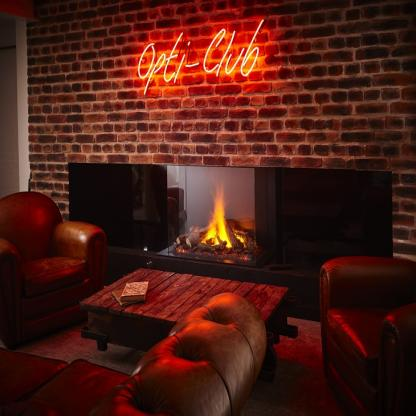fire: (193, 180, 246, 248)
